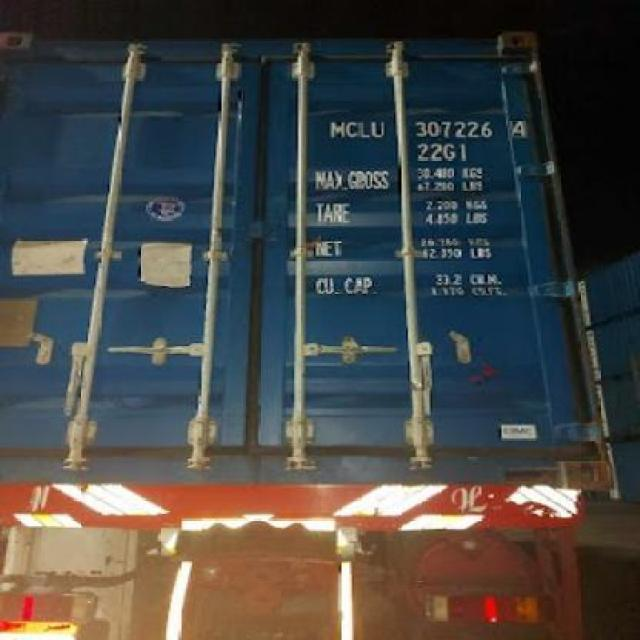ISO: (413, 144, 469, 164)
container_number: (328, 114, 530, 140)
